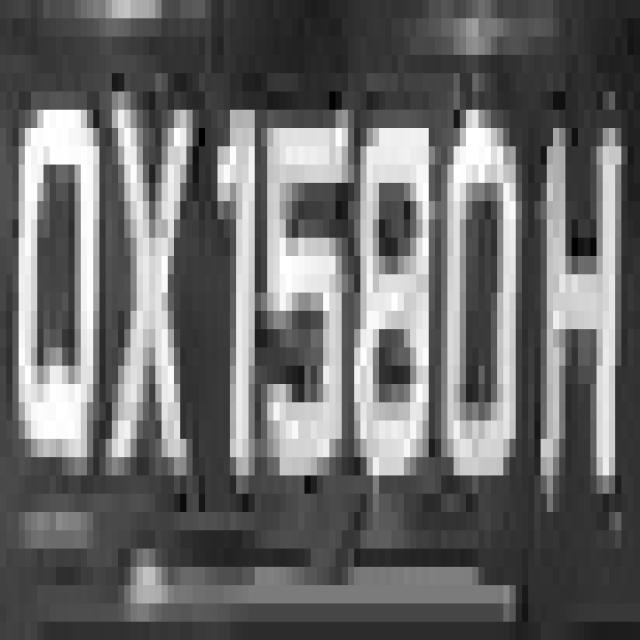0: (441, 73, 528, 512)
1: (211, 36, 261, 494)
5: (261, 55, 342, 530)
8: (348, 55, 435, 512)
H: (528, 55, 628, 567)
Q: (0, 91, 99, 475)
X: (100, 55, 186, 512)
